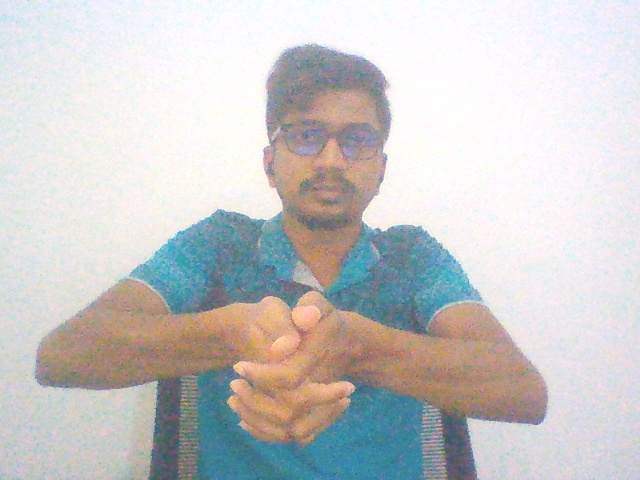mangosteen: (210, 280, 369, 452)
